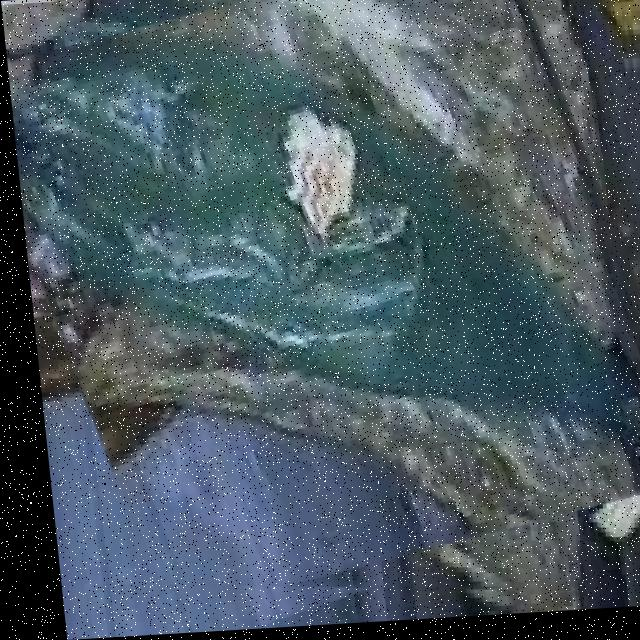litter: (0, 0, 640, 629)
